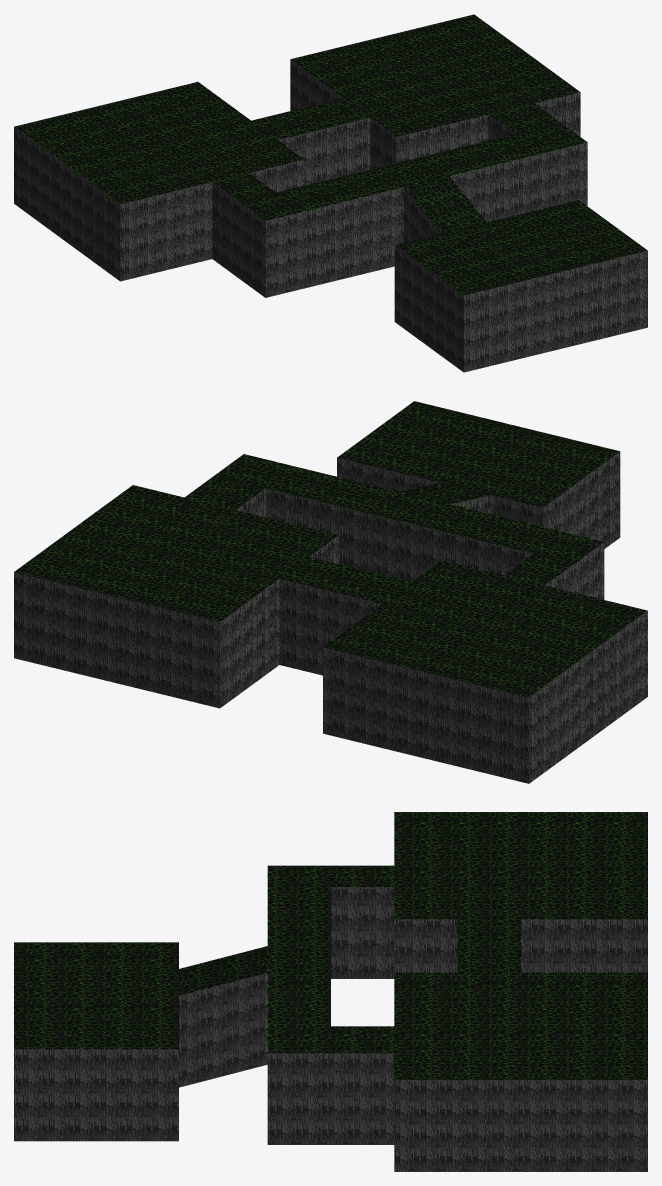
The model's file is test level.glb.
3 renders of one model, top to bottom at view 1: azimuth 30°, elevation 25°; view 2: azimuth 150°, elevation 25°; view 3: azimuth 270°, elevation 25°, orthographic. The views are drawn at different scales.
Parts seen in each view (by area): view 1: Plane; view 2: Plane; view 3: Plane.
Boxes of the visible parts, x1,y1,x2,y2 form: Plane: (14,14,647,372); Plane: (14,401,647,783); Plane: (14,812,647,1171).
Bounding box in the file's own units: 50 × 10 × 50.
Materials: 2 (2 with a texture image).
